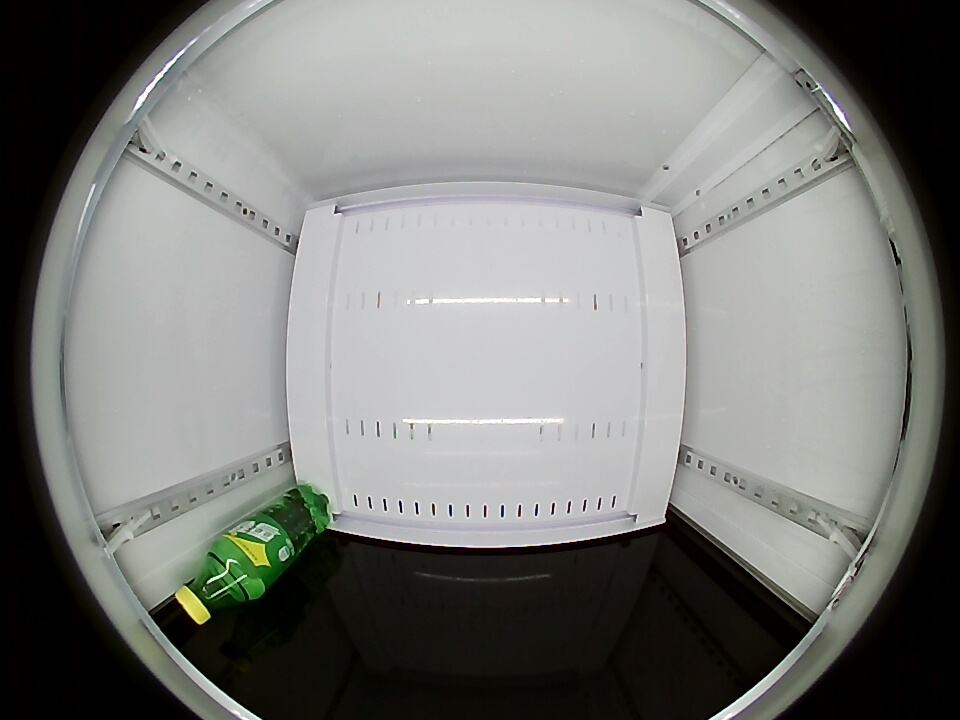xuebi-b: (175, 544, 261, 624)
